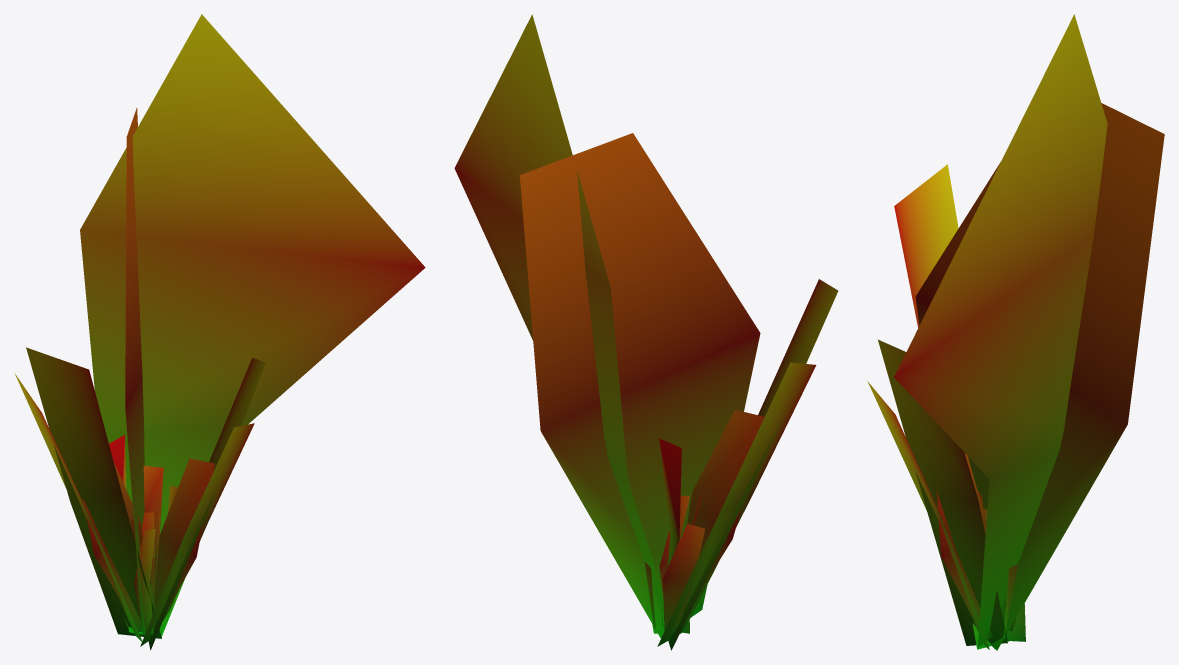
The model's file is Dead Broom Bush_LOD1_Var6_tlpjdhwia.fbx.
The picture shows the model from 3 angles, left to right: view 1: azimuth 30°, elevation 25°; view 2: azimuth 150°, elevation 25°; view 3: azimuth 270°, elevation 25°; orthographic projection. The views are drawn at different scales.
Visible parts, largest first — view 1: _f029_Var6_LOD1; view 2: _f029_Var6_LOD1; view 3: _f029_Var6_LOD1.
Part boxes in pixels (x1=…): _f029_Var6_LOD1: x1=15, y1=14, x2=425, y2=650; _f029_Var6_LOD1: x1=454, y1=14, x2=838, y2=650; _f029_Var6_LOD1: x1=867, y1=14, x2=1164, y2=650.
Bounding box in the file's own units: 19.89 × 29.24 × 11.46.
